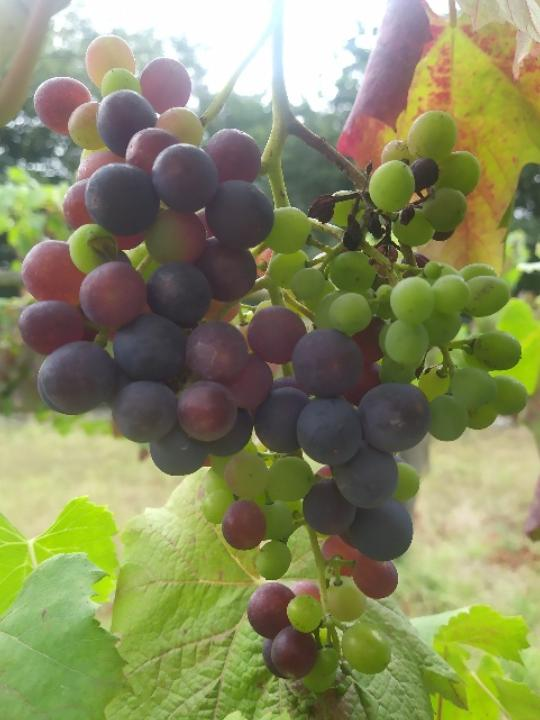grape: (15, 30, 533, 697)
